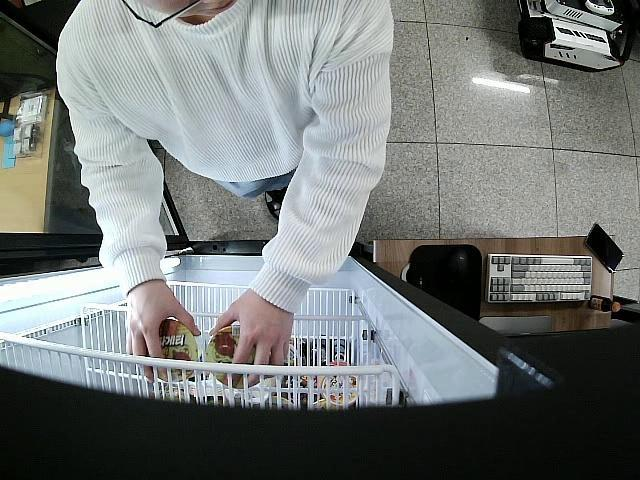04_chapagetti_S: (204, 326, 268, 386), (142, 318, 198, 382)
